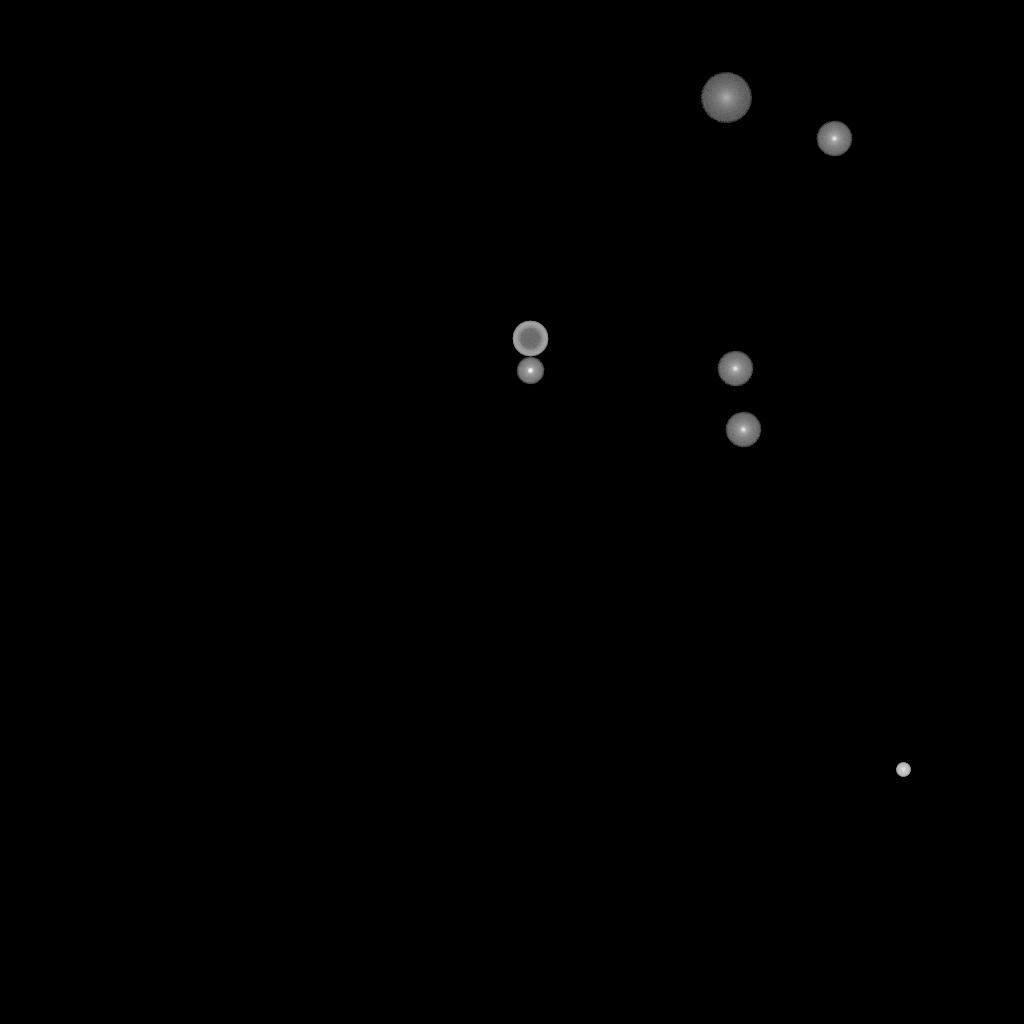depth:-10: (516, 357, 544, 385)
depth:-30: (896, 763, 910, 777)
depth:-60: (512, 321, 548, 357)
depth:0: (717, 351, 753, 387), (816, 121, 852, 157), (725, 412, 761, 448)
depth:20: (700, 73, 752, 123)
